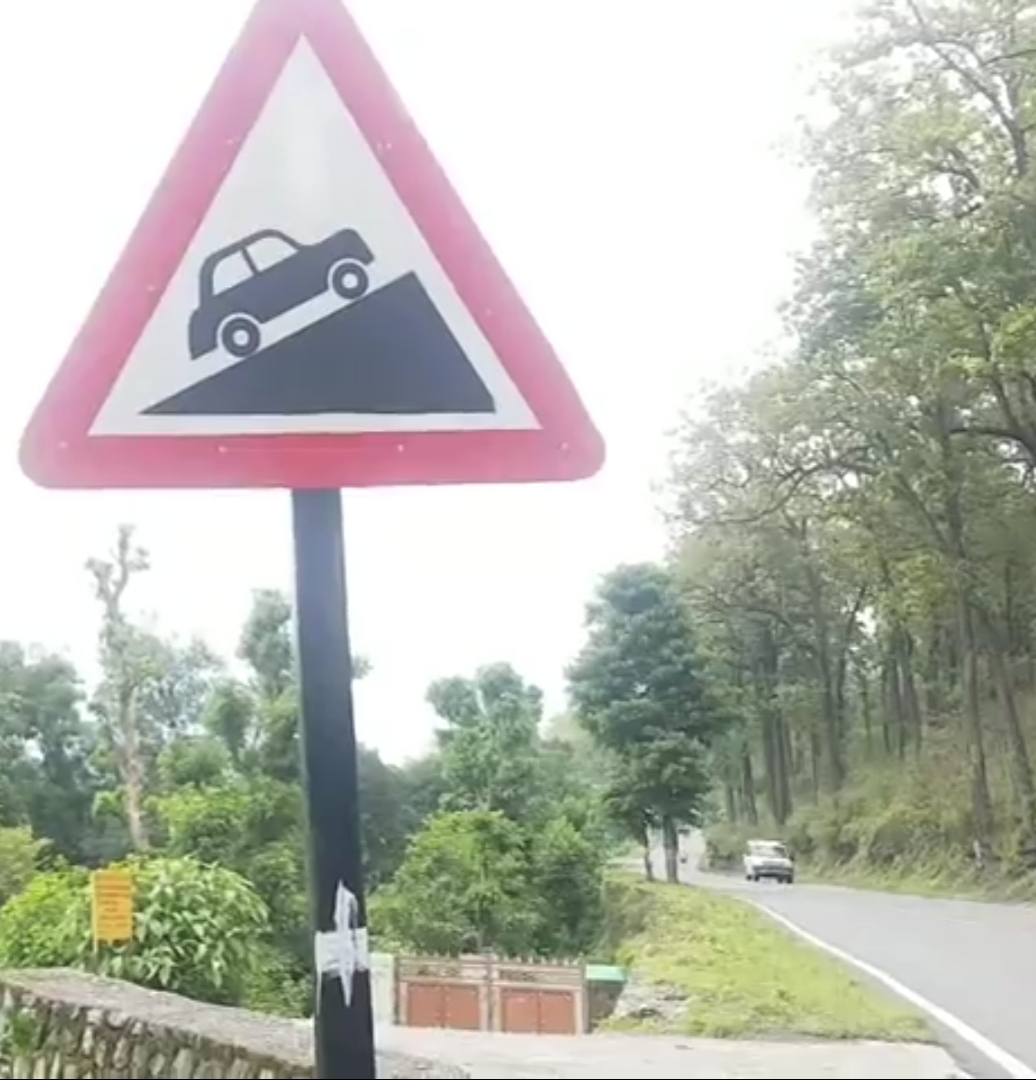traffic_sign: (16, 0, 603, 489)
